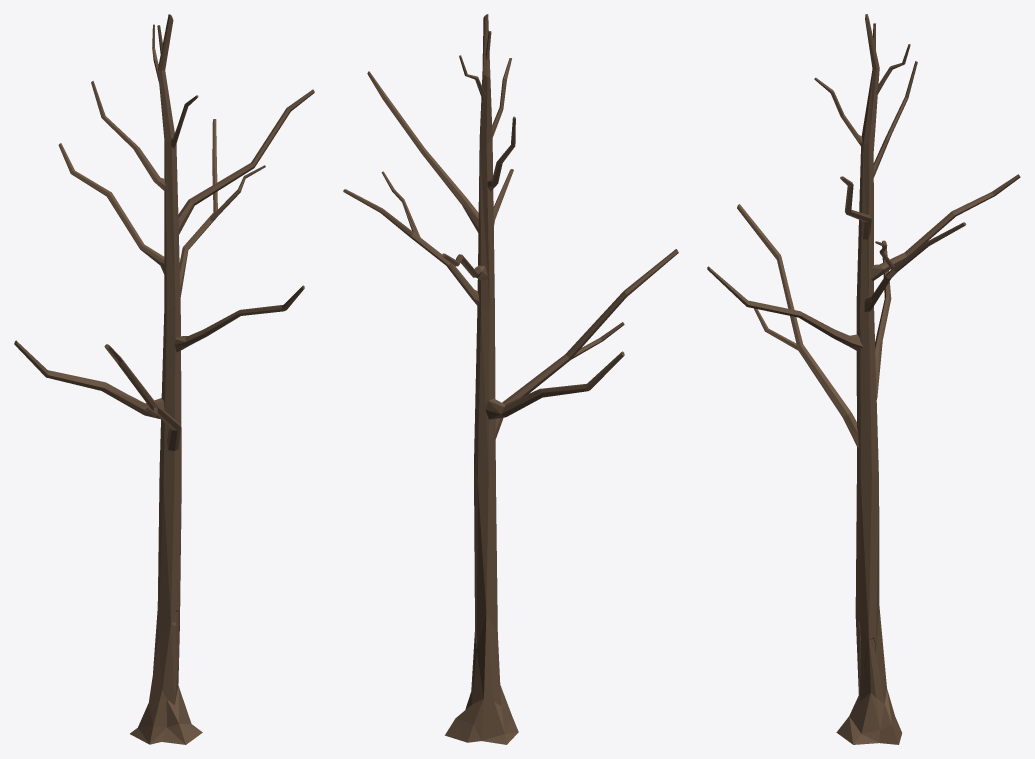
File: zone2-s6.glb
3 views of the same model, side by side, from view 1: azimuth 30°, elevation 25°; view 2: azimuth 150°, elevation 25°; view 3: azimuth 270°, elevation 25° (orthographic).
Parts seen in each view (by area): view 1: tree-beech-european-dry-dead-a.001; view 2: tree-beech-european-dry-dead-a.001; view 3: tree-beech-european-dry-dead-a.001.
Boxes of the visible parts, box(x1,y1,x2,y2) form: tree-beech-european-dry-dead-a.001: box(14, 14, 314, 744); tree-beech-european-dry-dead-a.001: box(343, 14, 678, 744); tree-beech-european-dry-dead-a.001: box(707, 14, 1020, 744).
Size of the model in its own units: 25.81 by 63.71 by 25.21.
